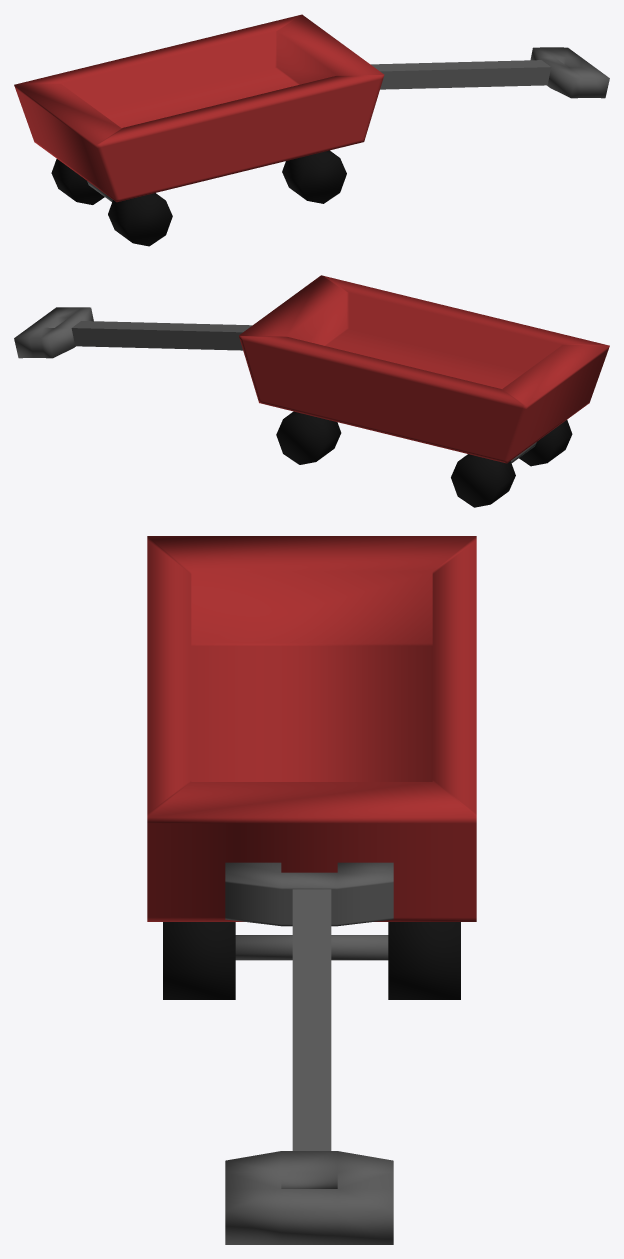
The model's file is Barrow.fbx.
3 renders of one model, top to bottom at view 1: azimuth 30°, elevation 25°; view 2: azimuth 150°, elevation 25°; view 3: azimuth 270°, elevation 25°, orthographic. The views are drawn at different scales.
Parts seen in each view (by area): view 1: Barrow; view 2: Barrow; view 3: Barrow.
Boxes of the visible parts, x1=… form: Barrow: x1=14, y1=14, x2=609, y2=246; Barrow: x1=14, y1=275, x2=609, y2=507; Barrow: x1=147, y1=536, x2=476, y2=1244.
Size of the model in its own units: 1837 by 389 by 491.
